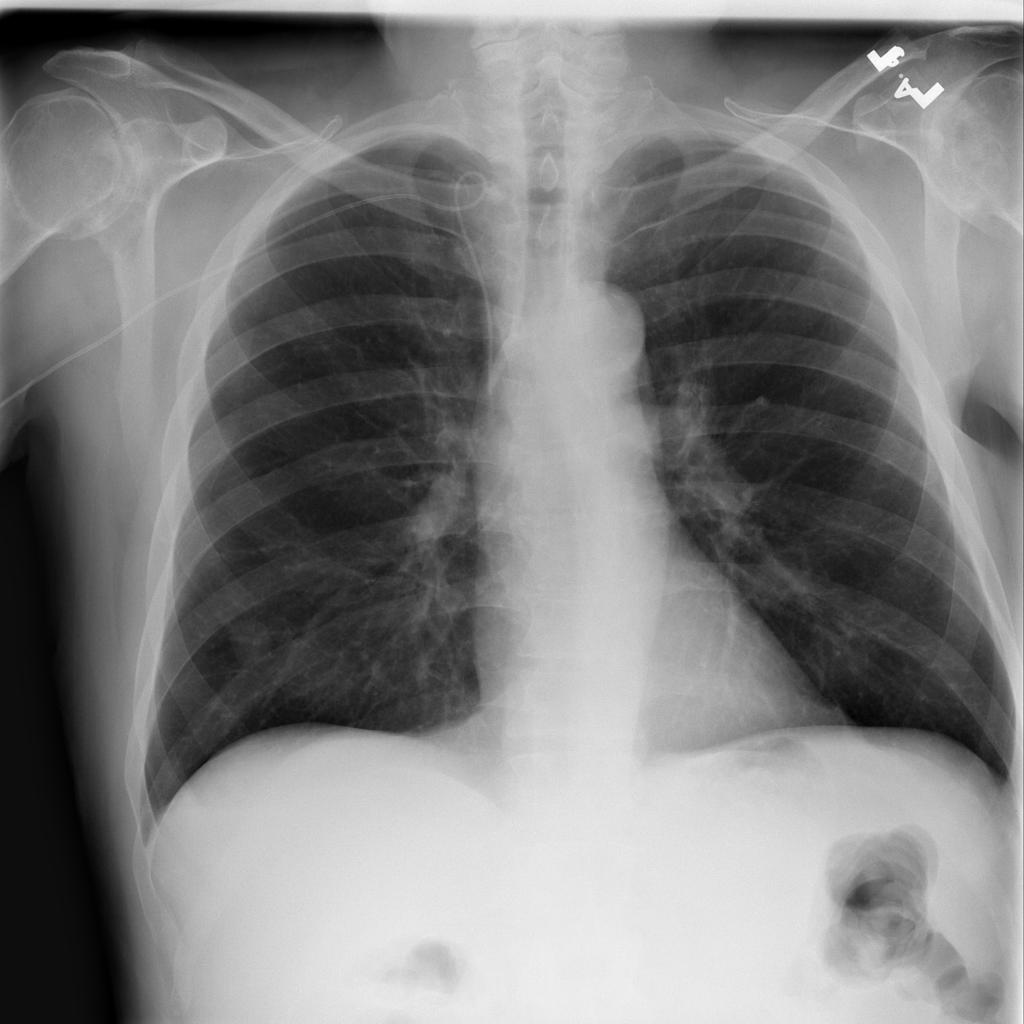nodule: (219, 615, 281, 676)
